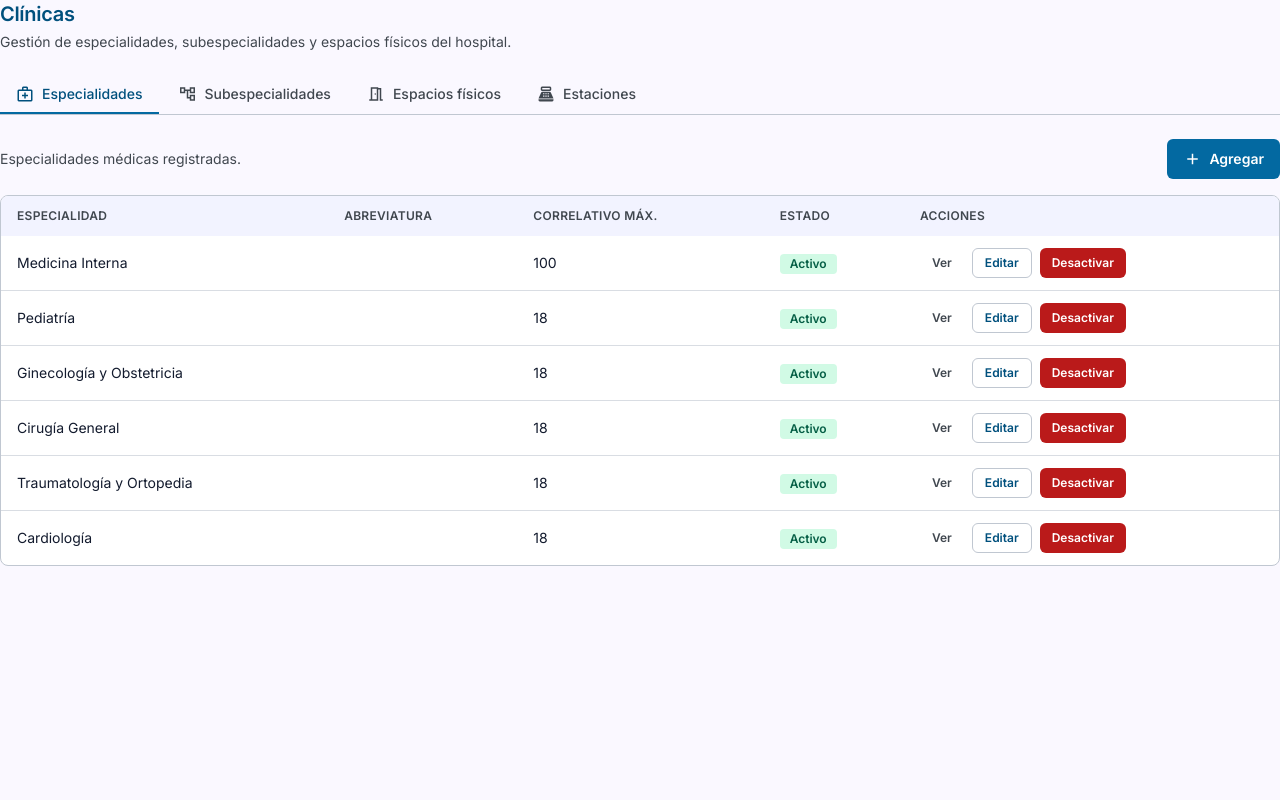
Test case: ClinicasPage › abre y cierra el modal de creación
This screenshot has width=1280, height=800.
Click the button "Agregar" at (1224, 159), box x1=1167 y1=139 x2=1279 y2=179
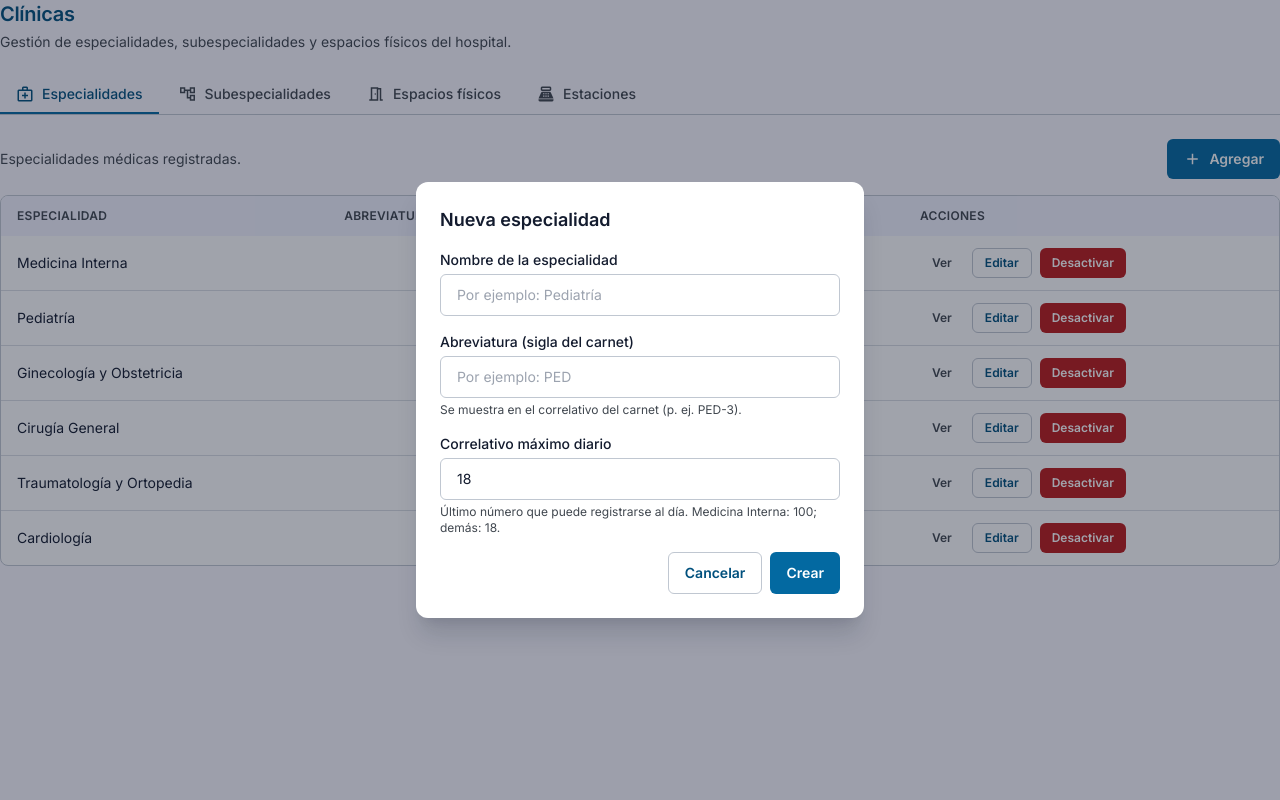
Now the heading "Nueva especialidad" is shown, box x1=440 y1=209 x2=610 y2=230
Click the button "Cancelar" at (715, 573), box x1=668 y1=552 x2=762 y2=594
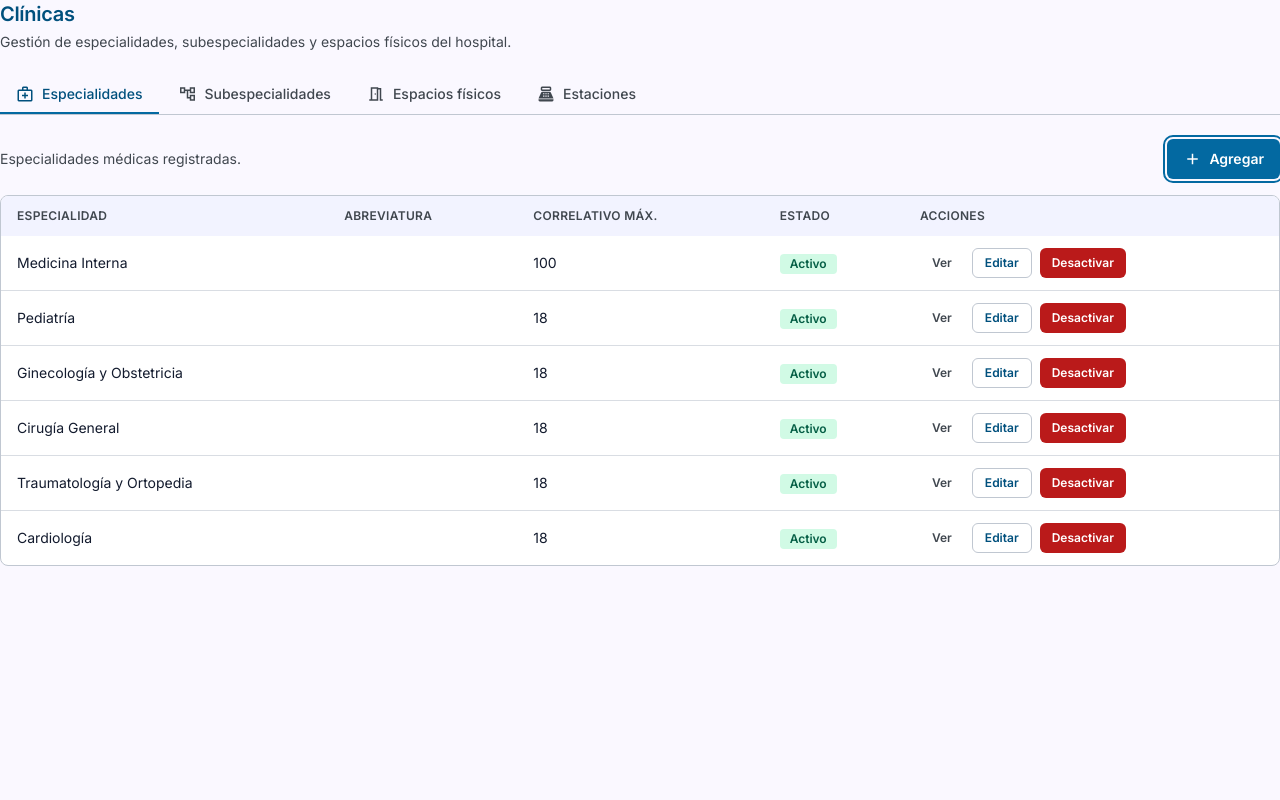
Now the heading "Nueva especialidad" is gone
